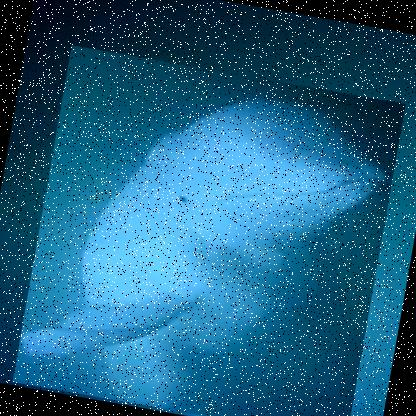blue_whale: (11, 42, 406, 415)
